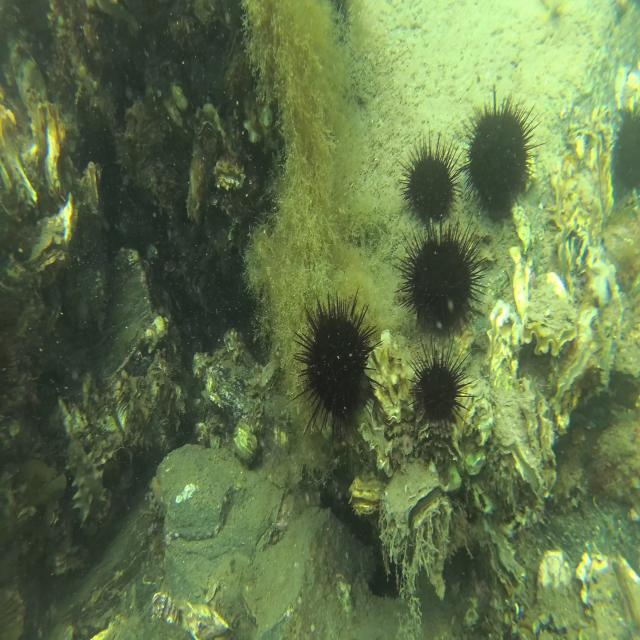echinus: (290, 283, 379, 436), (466, 89, 542, 221), (406, 224, 484, 340), (408, 334, 470, 437), (401, 130, 464, 223), (610, 94, 640, 203)
